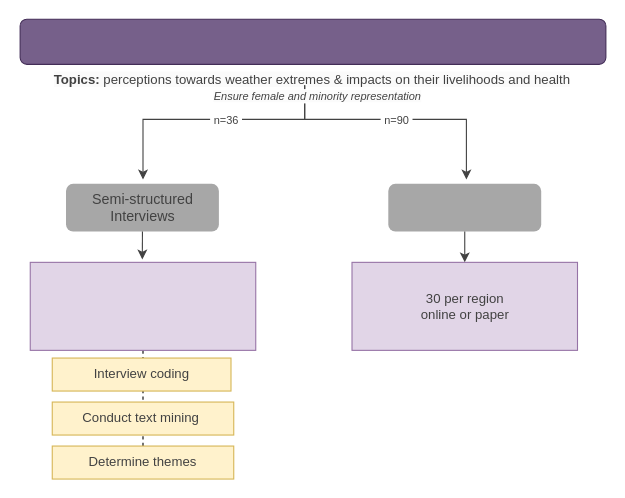
Some shapes in this 625 by 498 pixel diagram are drawn without their labels. Here are the shapes that lost their labels. From the top down, the box of each, then its label:
(19, 18, 606, 64): Rural communities adapting & responding to climate extremes
(388, 183, 541, 231): Survey
(29, 261, 256, 350): Conversation with 6 farmers and 6 community member per region.
